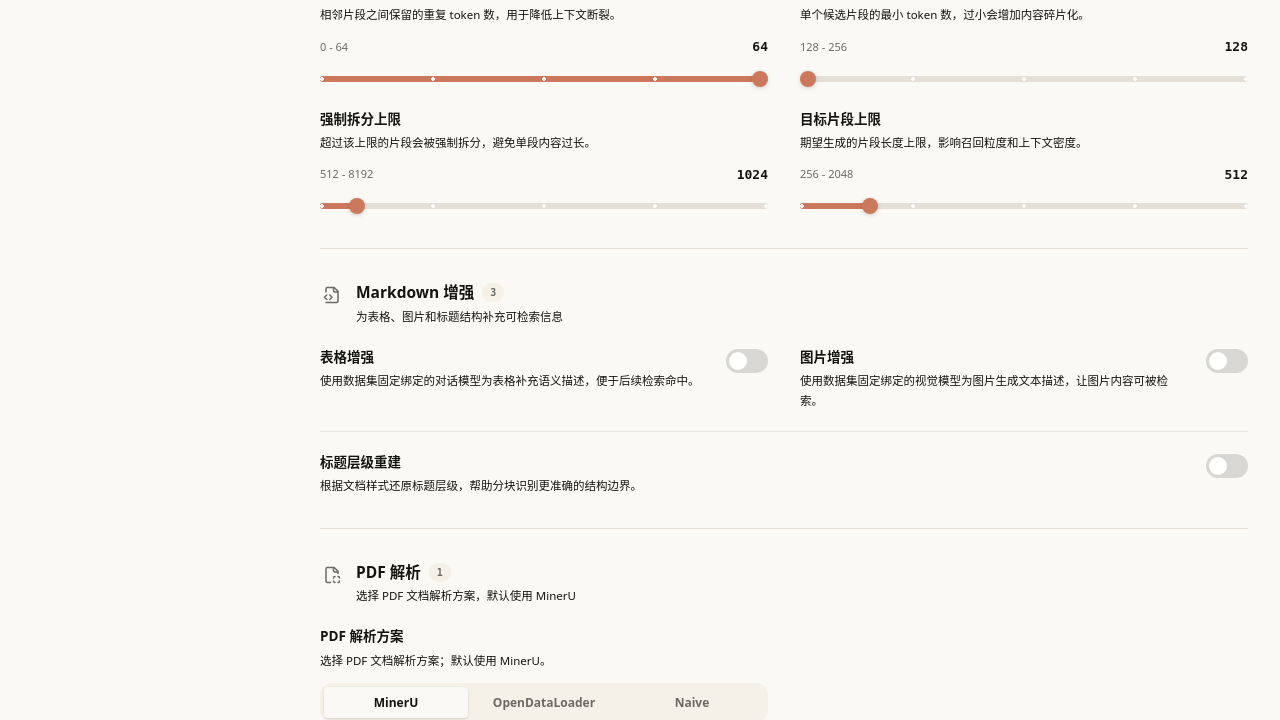
Test case: dataset parse config model defaults › does not enable 表格增强 when CHAT has no executable candidate
(page scrolled)
Check: the heading "Markdown 增强" is shown, box [356,281,474,305]
Step 1. Click the button named "表格增强" → point(747, 360), box [726,348,768,372]
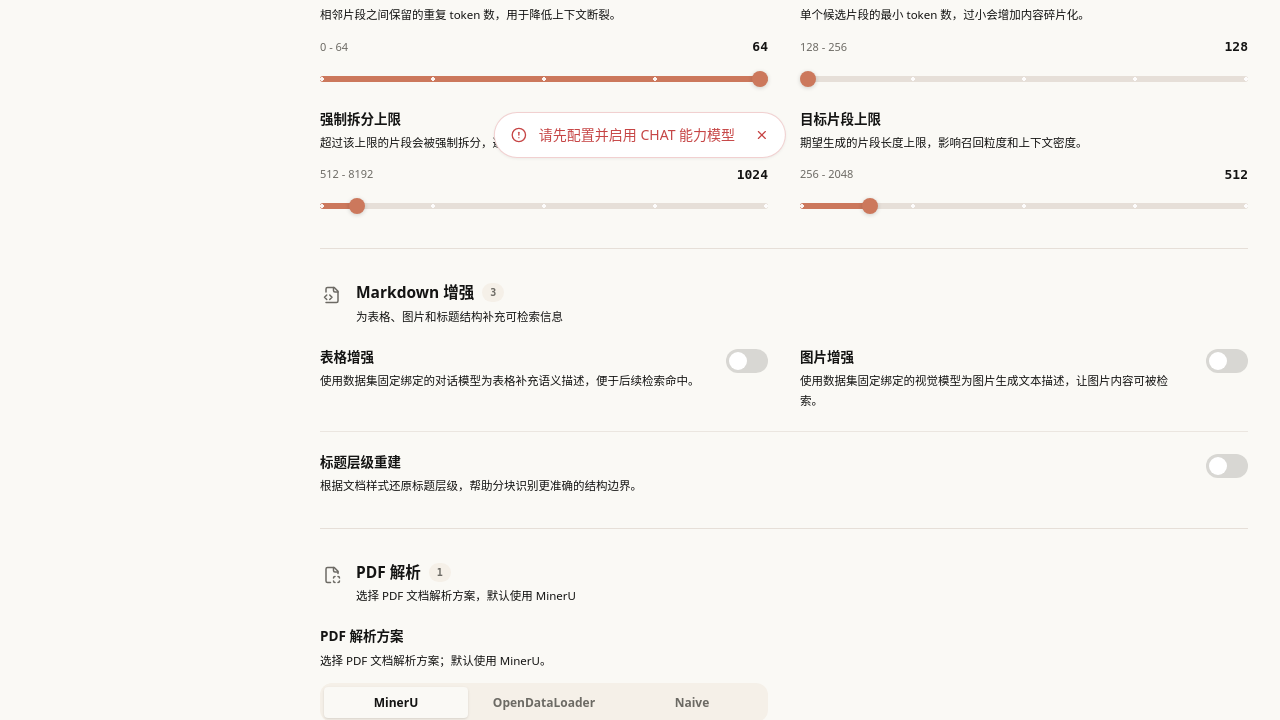
Check: the text "请先配置并启用 CHAT 能力模型" is shown, box [539,125,735,145]
